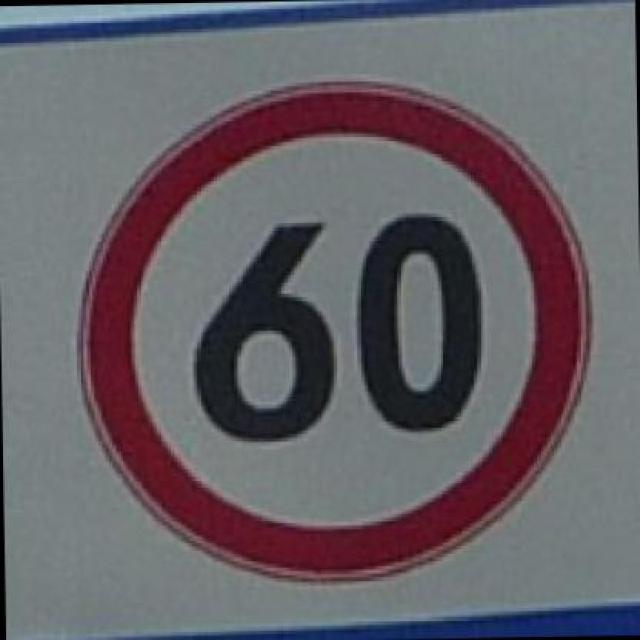Limite-60: (72, 73, 606, 582)
